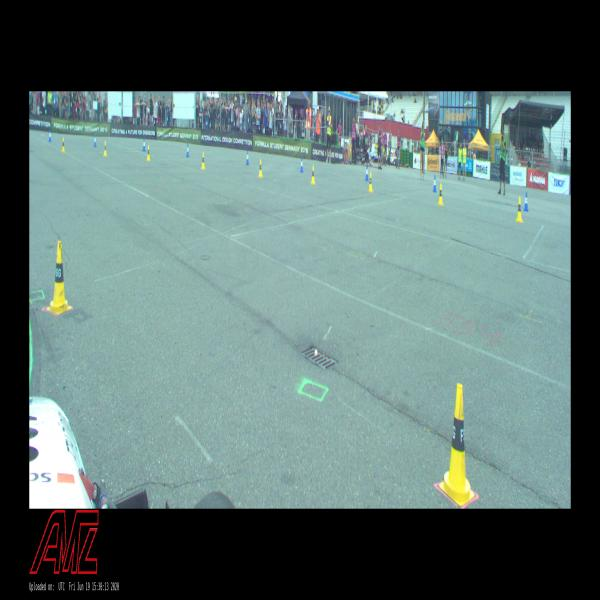blue_cone: (524, 193, 528, 212), (432, 175, 436, 192), (365, 165, 369, 181), (300, 157, 304, 172), (186, 143, 190, 157), (142, 138, 146, 151), (48, 130, 52, 141), (246, 151, 249, 165), (94, 134, 96, 147)
yellow_cone: (440, 384, 475, 506), (47, 241, 71, 313), (516, 197, 523, 222), (437, 184, 444, 205), (368, 172, 373, 192), (258, 159, 262, 178), (311, 166, 315, 184), (202, 153, 206, 169), (104, 141, 108, 156), (62, 138, 66, 152), (146, 146, 150, 160)
